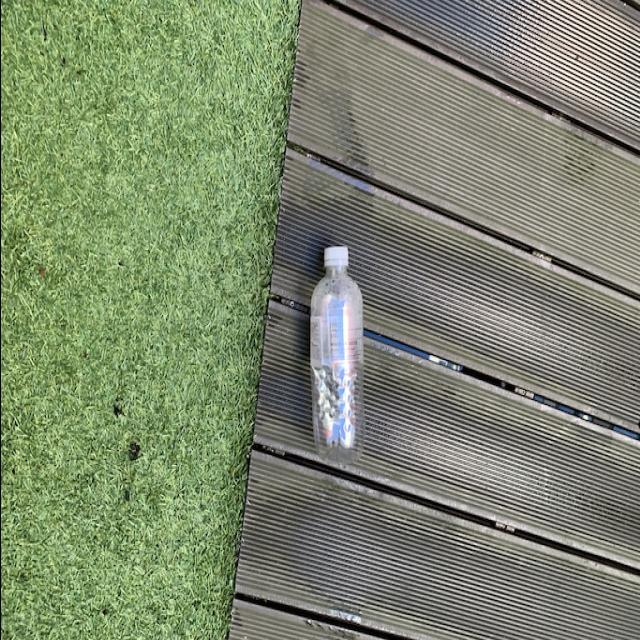PET: (308, 245, 366, 464)
